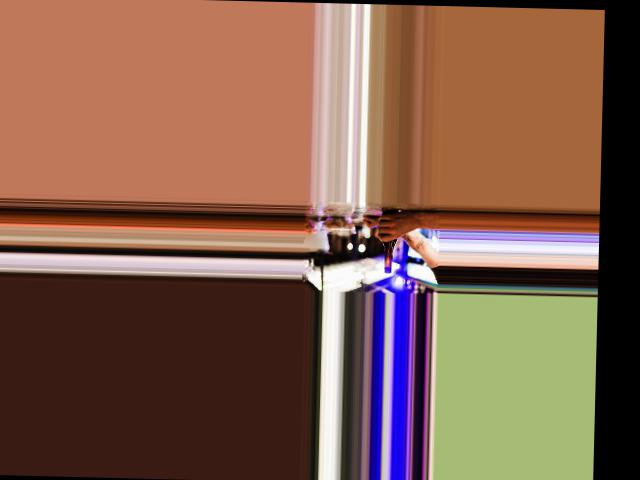beer: (380, 210, 397, 273)
